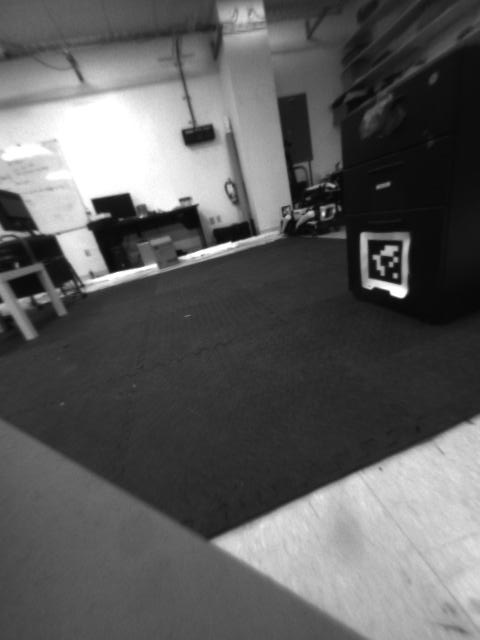drawer: (346, 94, 409, 145)
